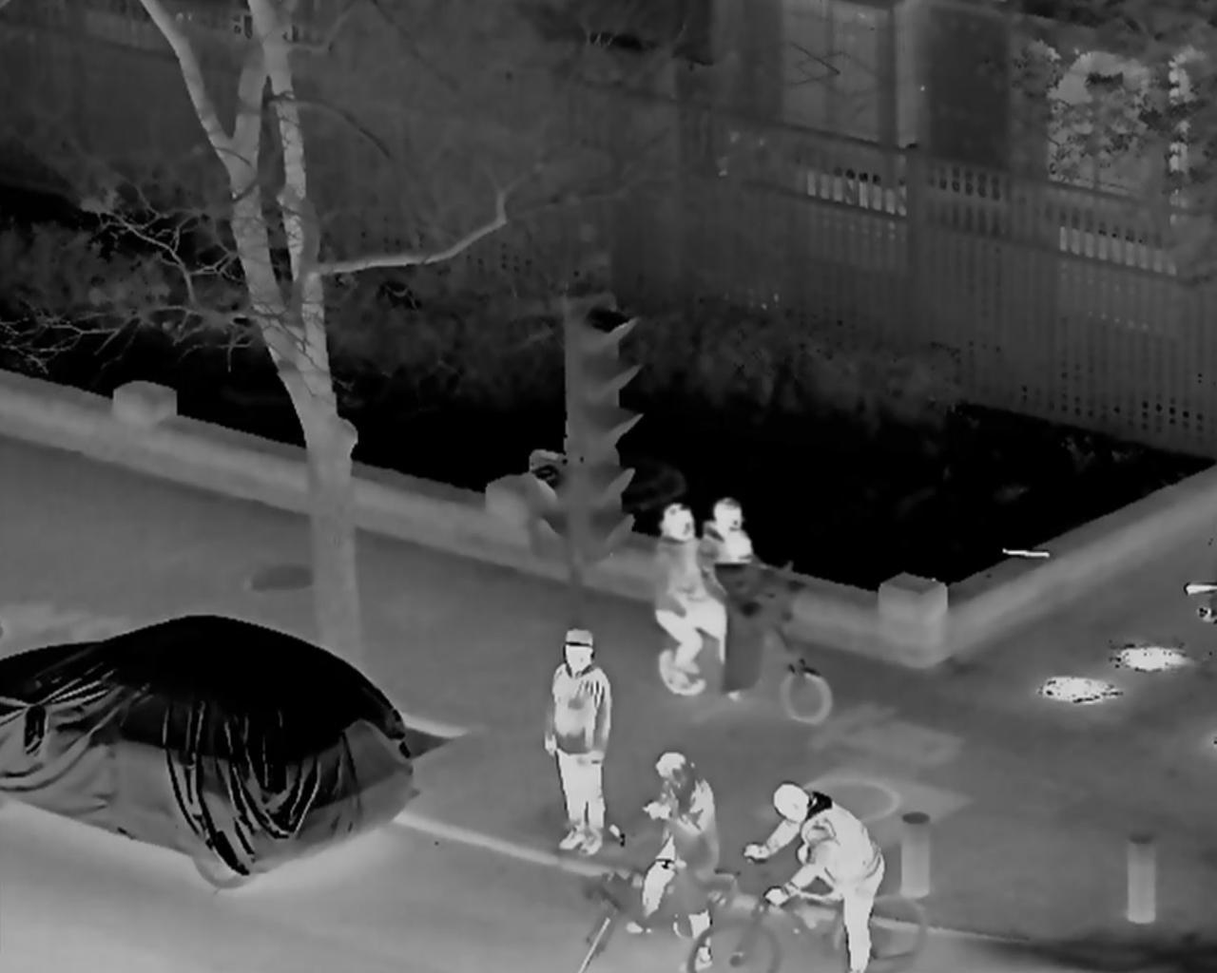person: (745, 782, 887, 970), (623, 749, 723, 967), (696, 488, 775, 684), (543, 627, 609, 856), (649, 504, 709, 681)
